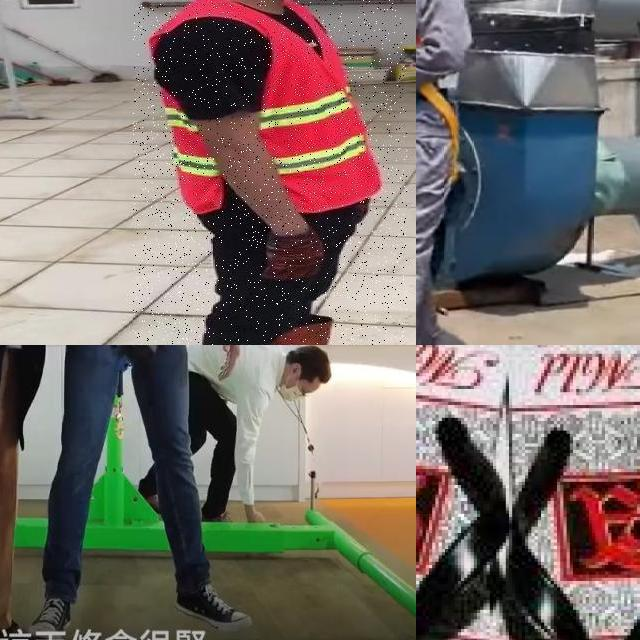Harness: (416, 0, 463, 195)
Sandals: (416, 345, 640, 640)
boots: (270, 320, 396, 345)
person: (133, 0, 407, 345)
vest: (139, 4, 391, 210)
